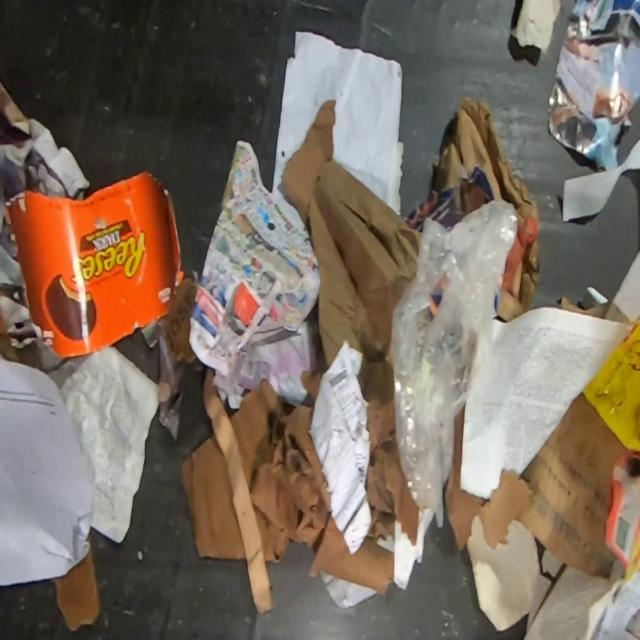cardboard: (6, 169, 184, 359), (516, 391, 626, 577), (604, 448, 640, 579), (52, 540, 102, 631)
soft_plastic: (392, 199, 518, 528), (157, 324, 184, 442)
